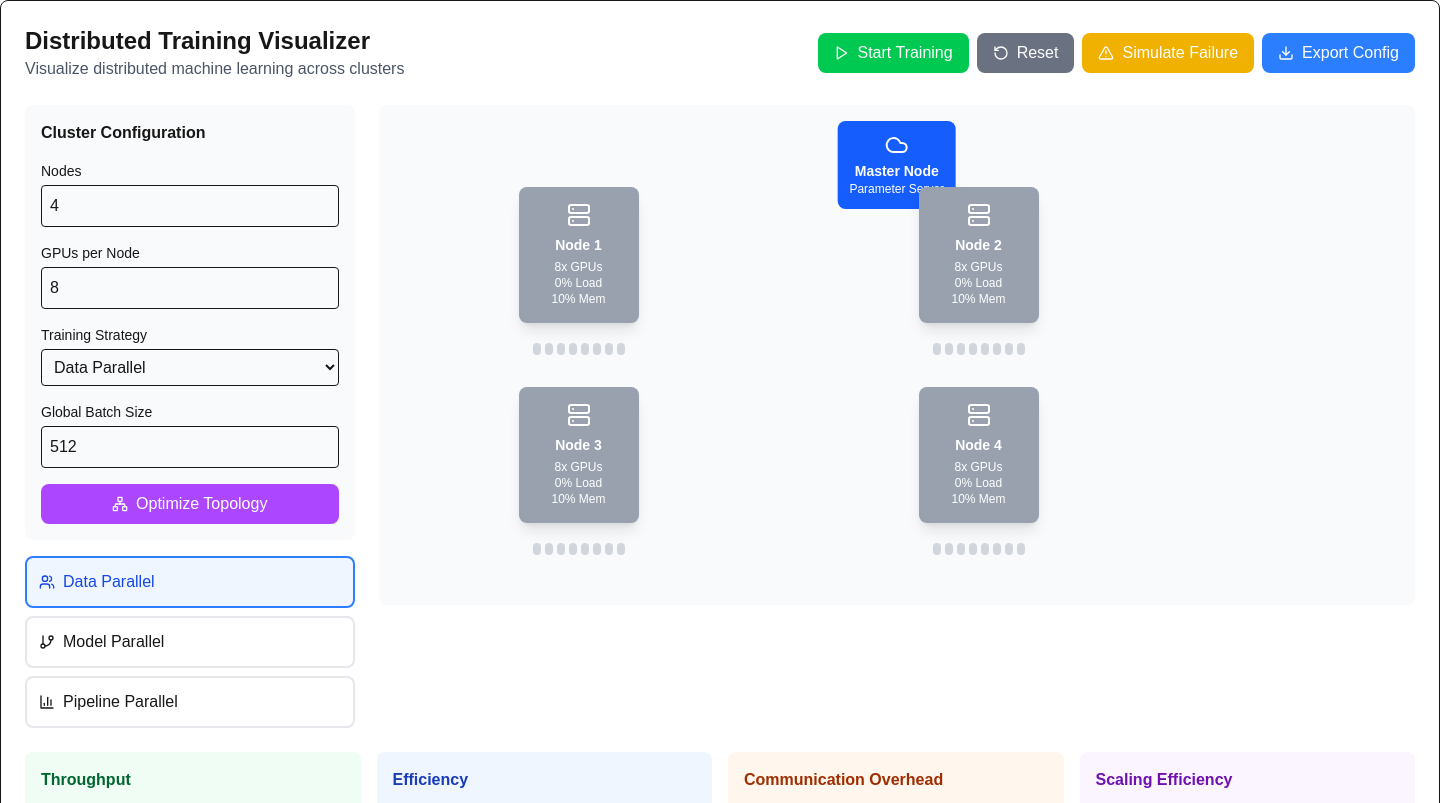
Test: DistributedTrainingVisualizer › shows fault tolerance demonstration
Step 1. Click the button "Simulate Failure" → [1168, 53], box [1082,33,1254,73]
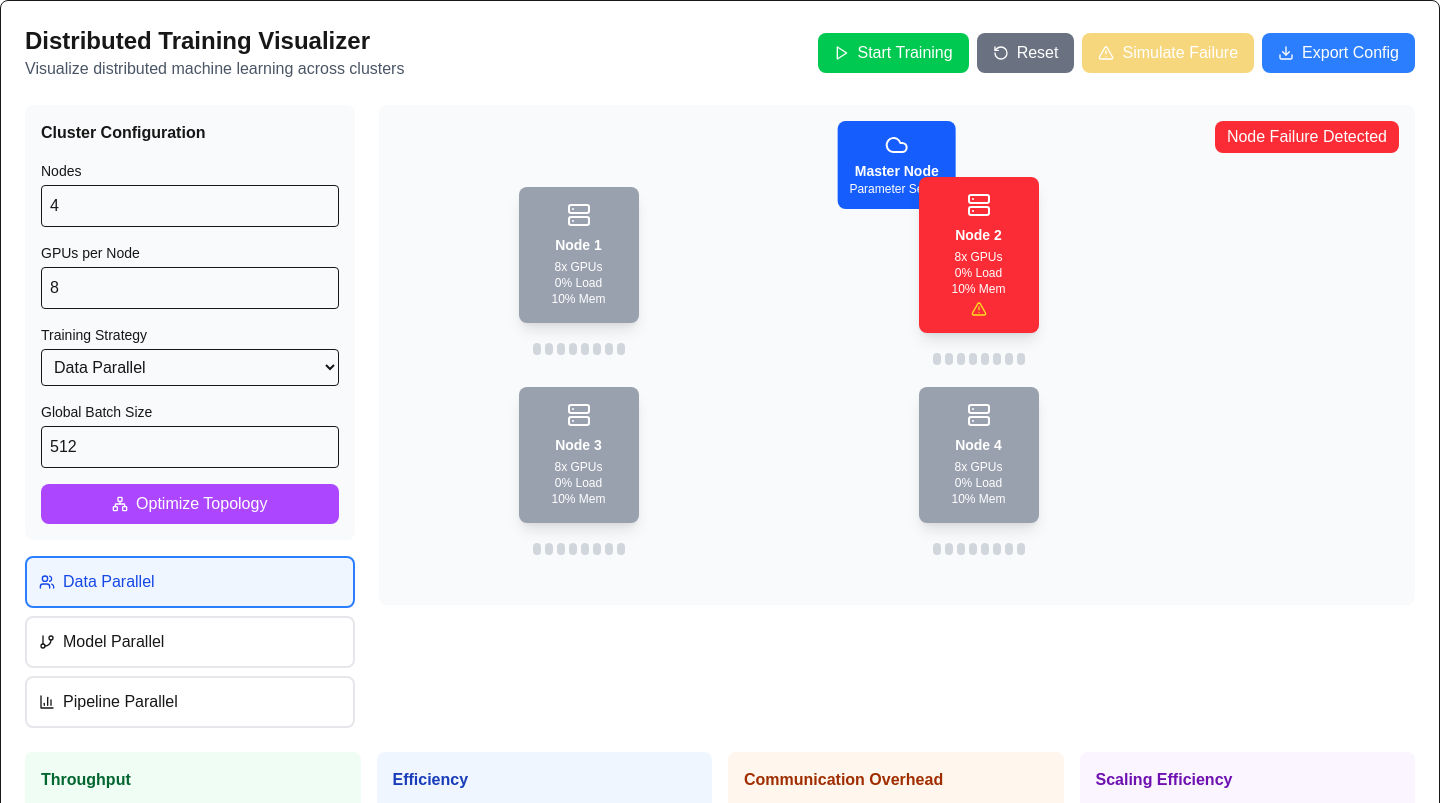
Check: the text "Node Failure Detected" is shown, box [1215,121,1399,153]
